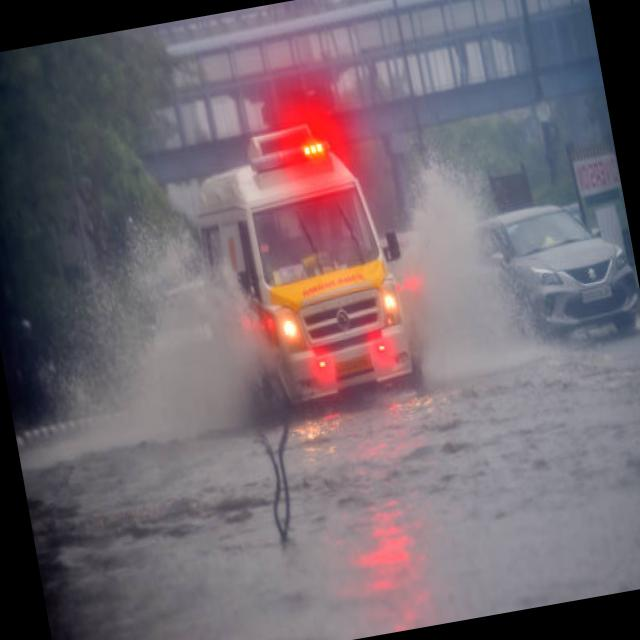ambulance: (249, 179, 389, 331), (276, 275, 408, 402), (246, 115, 346, 218)
